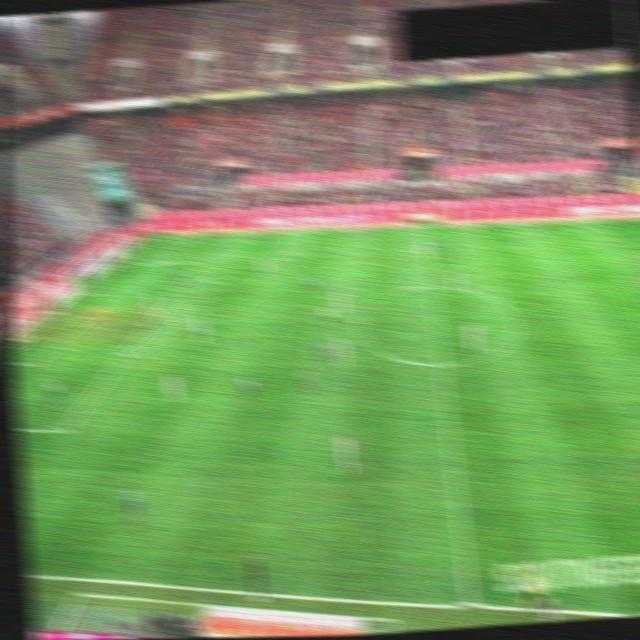bigarea_bottom_inner: (55, 425, 74, 438)
bigarea_top_inner: (193, 255, 212, 268)
bigarea_top_outter: (104, 259, 123, 271)
bottom_arc_area_intersection: (117, 347, 136, 360)
corner: (136, 232, 157, 244)
halfcircle_bottom: (432, 360, 452, 372)
halfcircle_top: (422, 281, 441, 293)
midline_bottom_intersection: (456, 596, 484, 617)
midline_top_intersection: (414, 220, 434, 233)
smallarea_bottom_inner: (27, 358, 46, 371)
smallarea_top_inner: (100, 288, 119, 301)
smallarea_top_outter: (67, 288, 87, 301)
top_arc_area_intersection: (163, 291, 183, 303)
